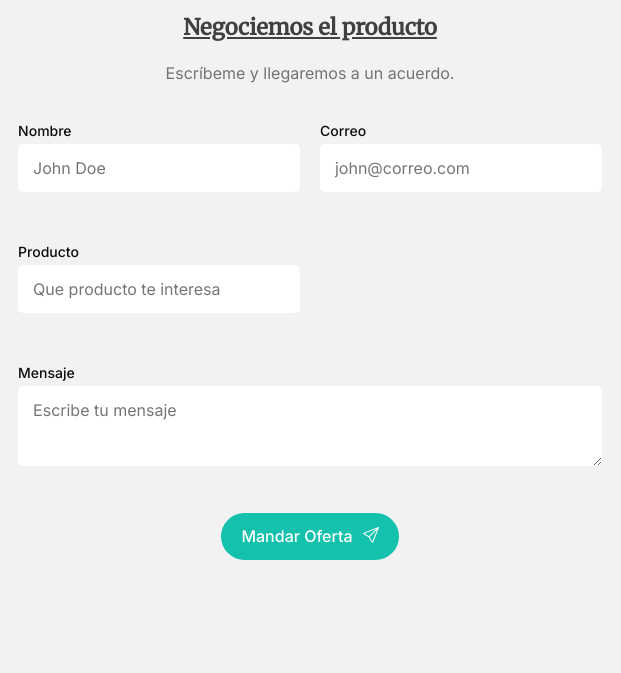
Test: Contacto - Pruebas Funcionales › muestra error cuando el mensaje está vacío
This screenshot has width=621, height=673.
In the field labelled "Nombre": [159, 168] box [18,144,300,192], type "Juan Perez"
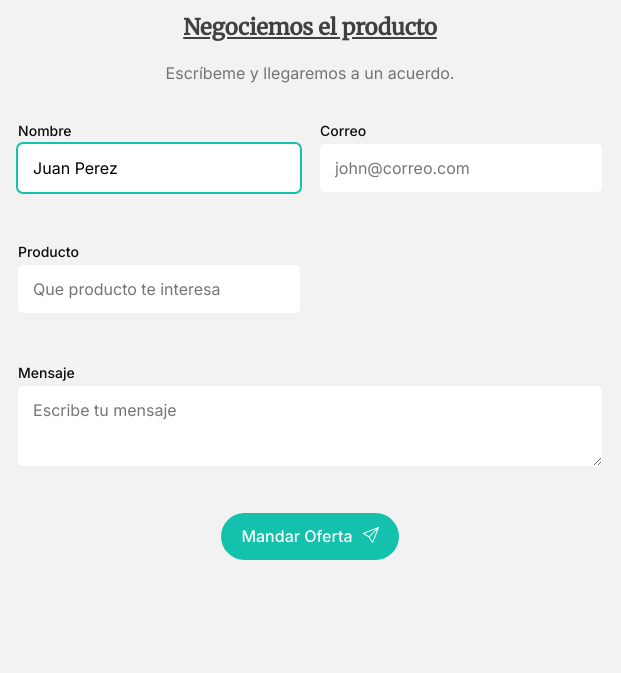
In the field labelled "Correo": [461, 168] box [320,144,602,192], type "juan@example.com"
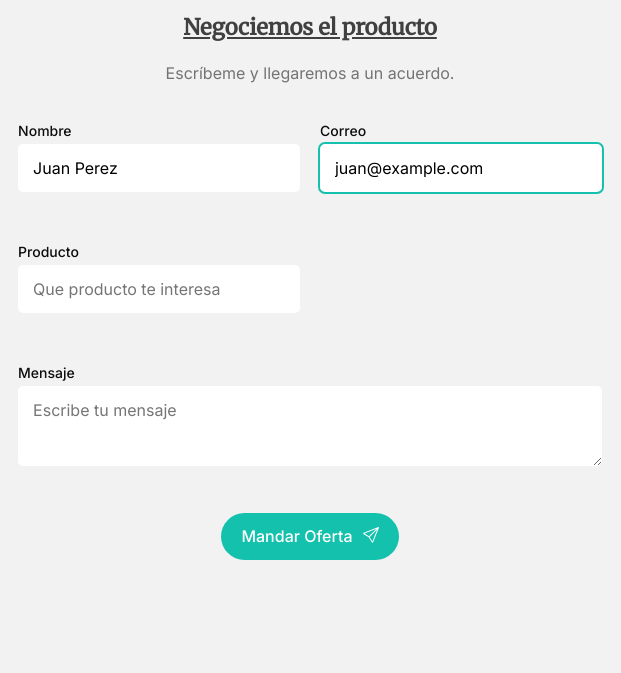
In the field labelled "Producto": [159, 289] box [18,265,300,313], type "Monitor"
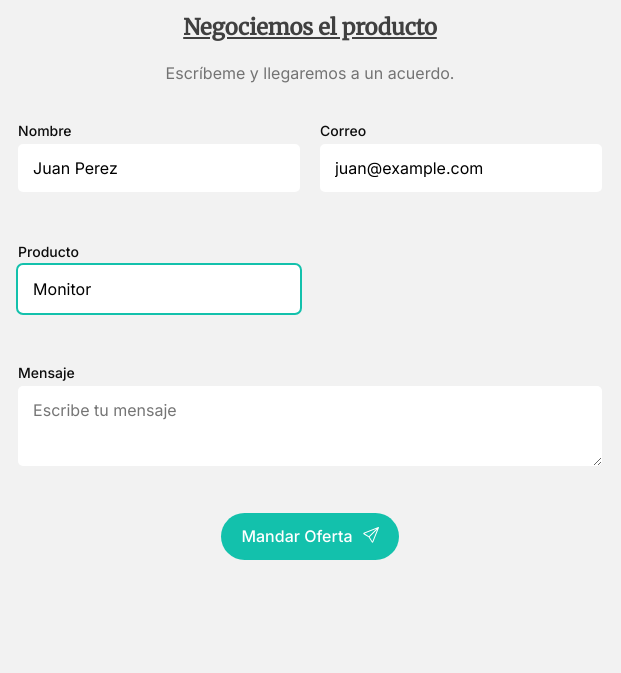
Click the button "Mandar Oferta": [310, 536] box [221,513,398,560]
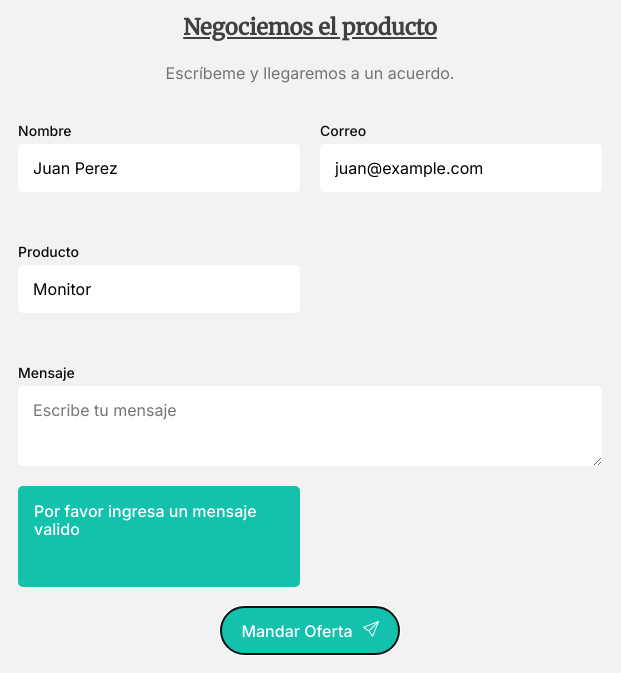
Now the text "Por favor ingresa un mensaje valido" is shown, box [34,502,284,539]
